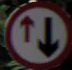Two way: (10, 8, 66, 55)
